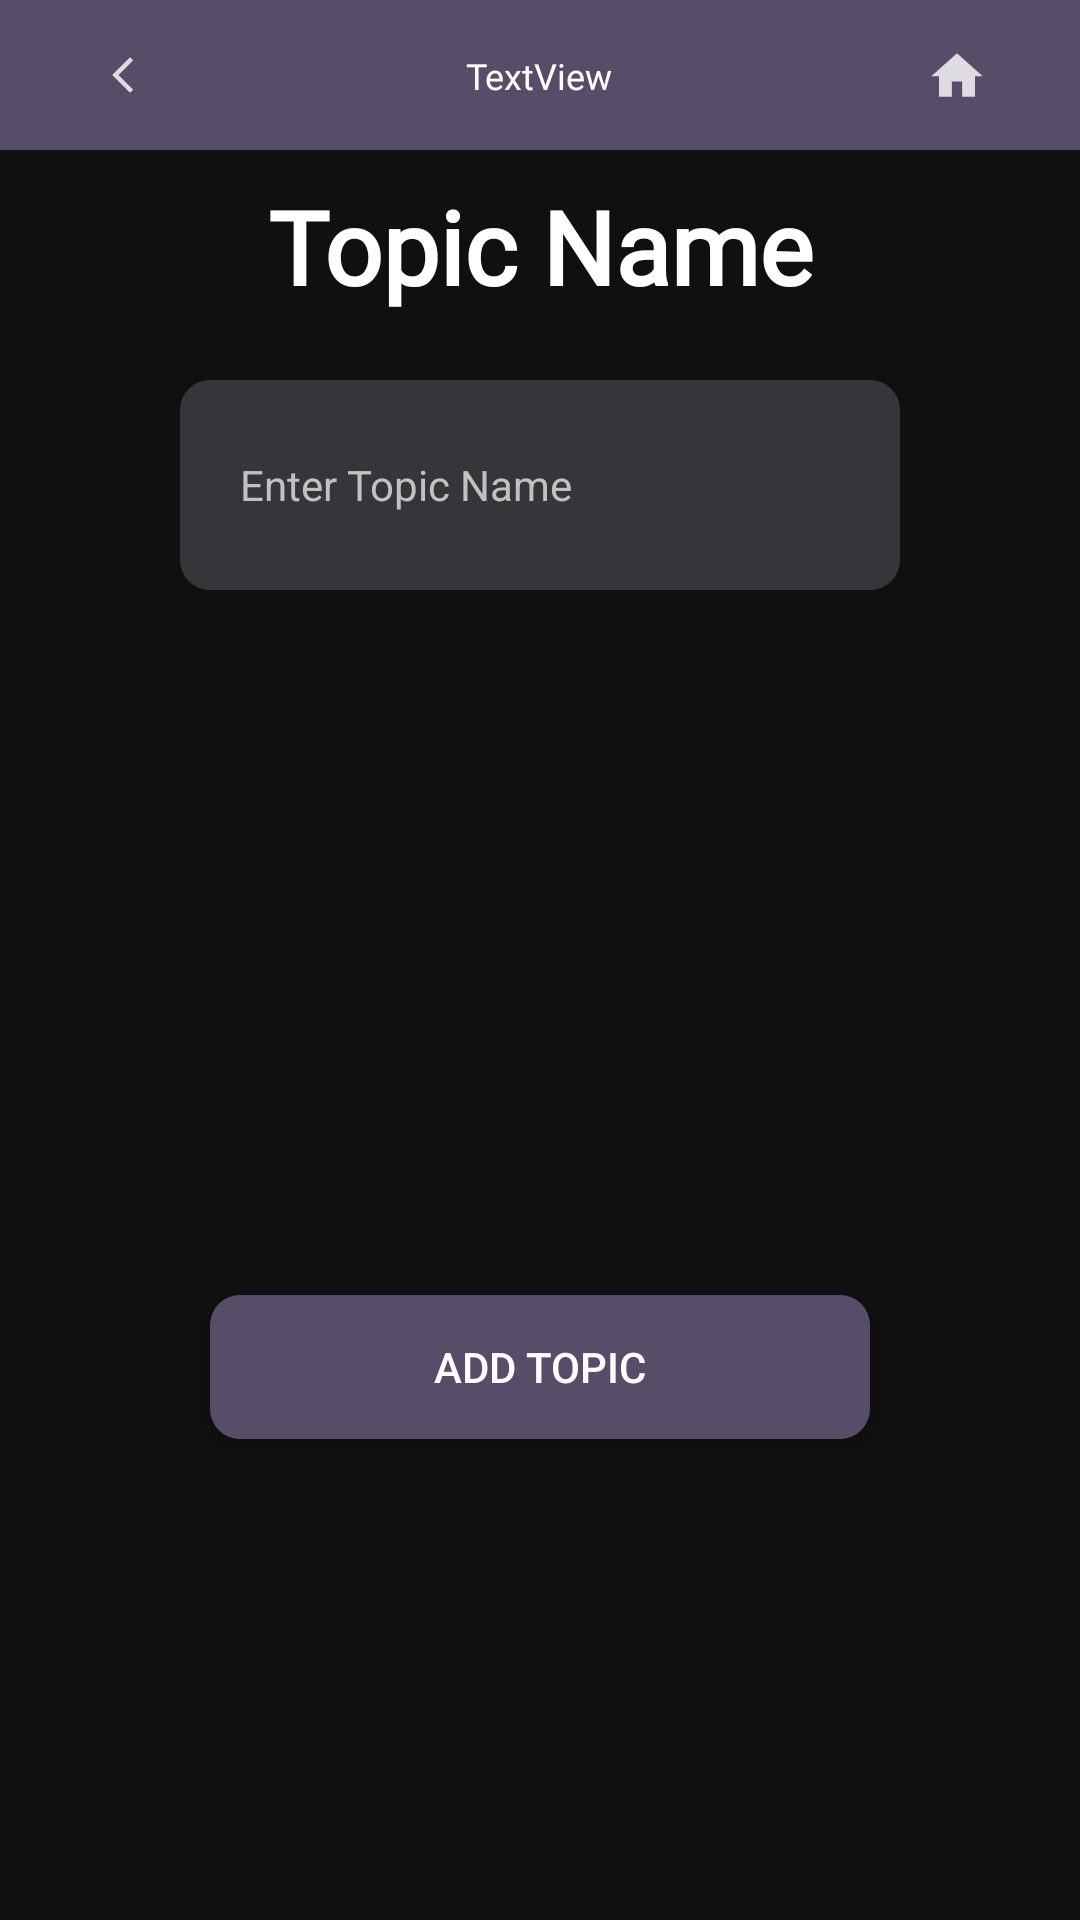

Point at icon controls on the screen. Image size 1080x1920, points as (x,y).
back arrow: (122,75)
home: (957,75)
